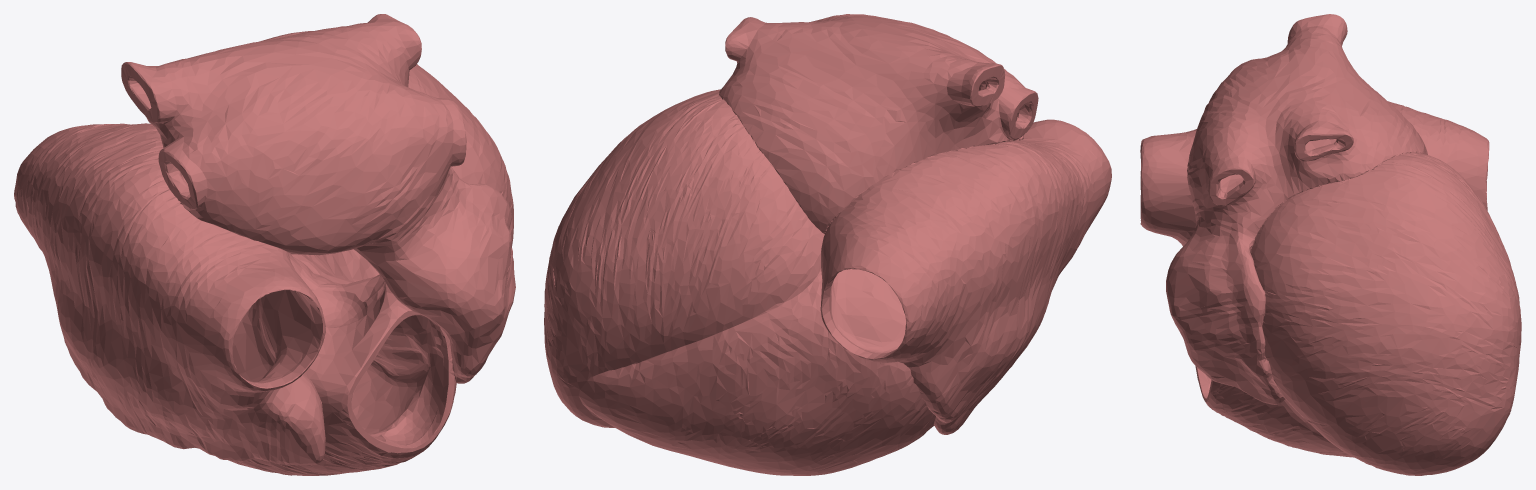
The model's file is coeur.glb.
3 views of the same model, side by side, from view 1: azimuth 30°, elevation 25°; view 2: azimuth 150°, elevation 25°; view 3: azimuth 270°, elevation 25° (orthographic). The views are drawn at different scales.
Parts seen in each view (by area): view 1: world; view 2: world; view 3: world.
Boxes of the visible parts, x1,y1,x2,y2 form: world: (14, 14, 515, 475); world: (544, 14, 1111, 475); world: (1140, 14, 1521, 475).
Size of the model in its own units: 1.21 by 1.15 by 1.1.
